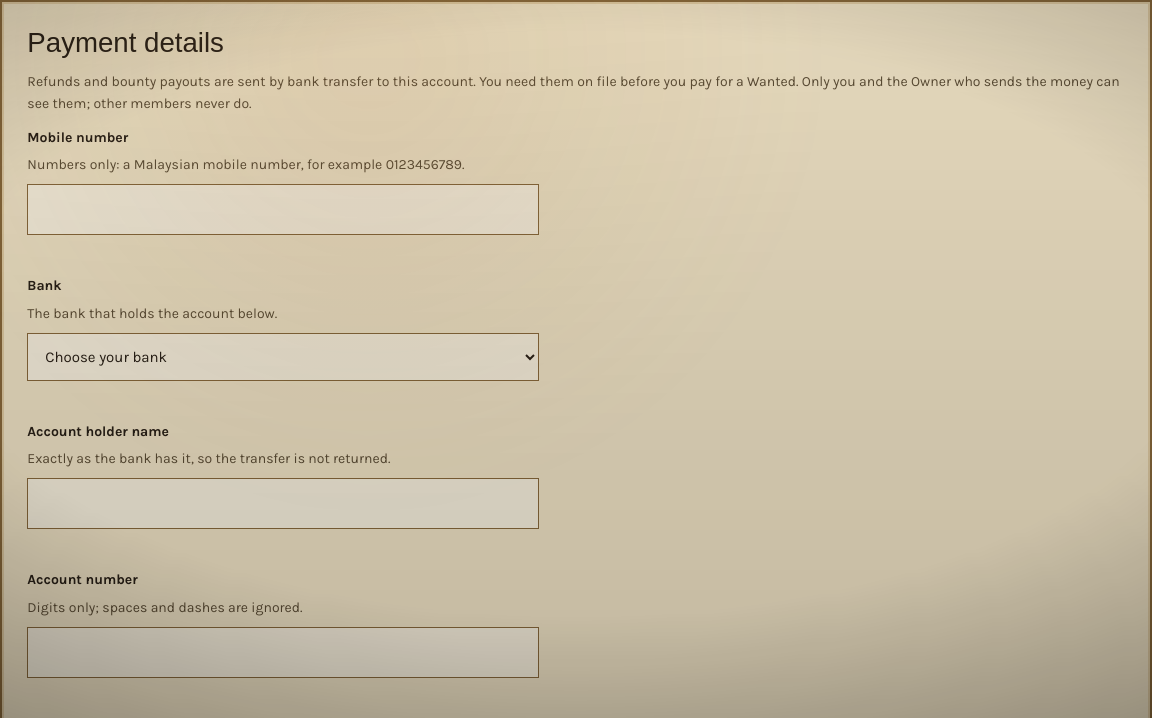
Test: PaymentDetailsForm › takes digits only in the mobile number
Type "+60 12-abc 345 6789" into the field labelled "Mobile number". click: [283, 210]
box: left=27, top=184, right=539, bottom=235
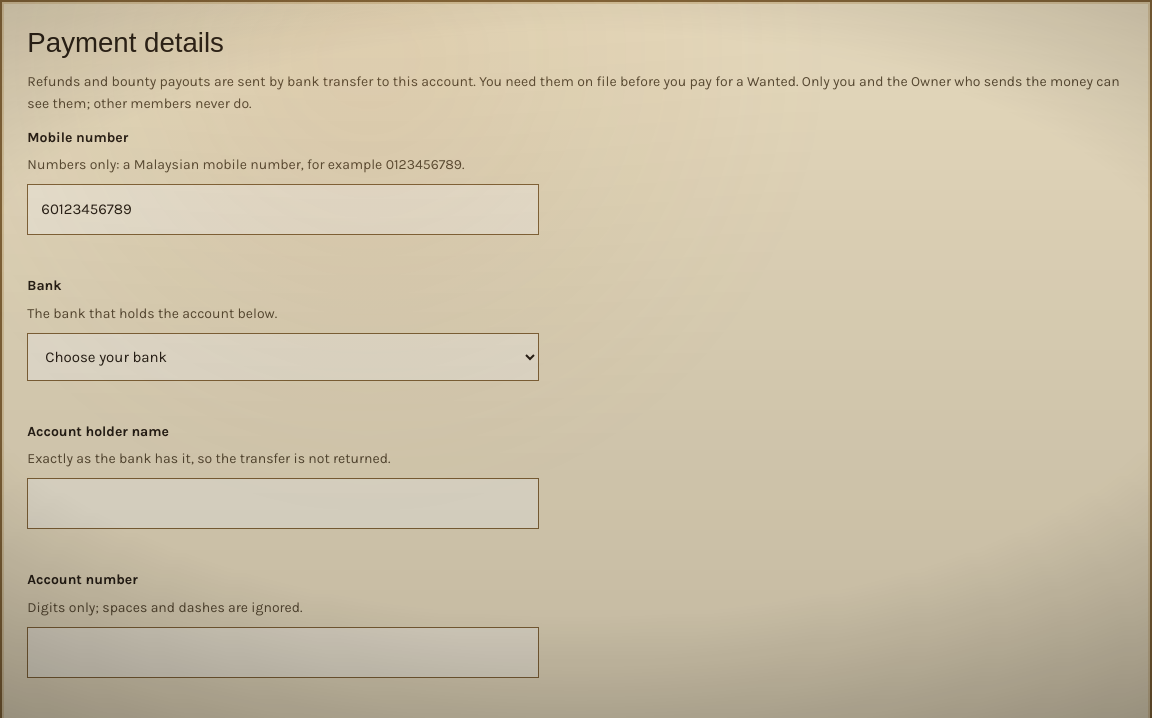
Now the field labelled "Mobile number" holds "60123456789", box left=27, top=184, right=539, bottom=235
